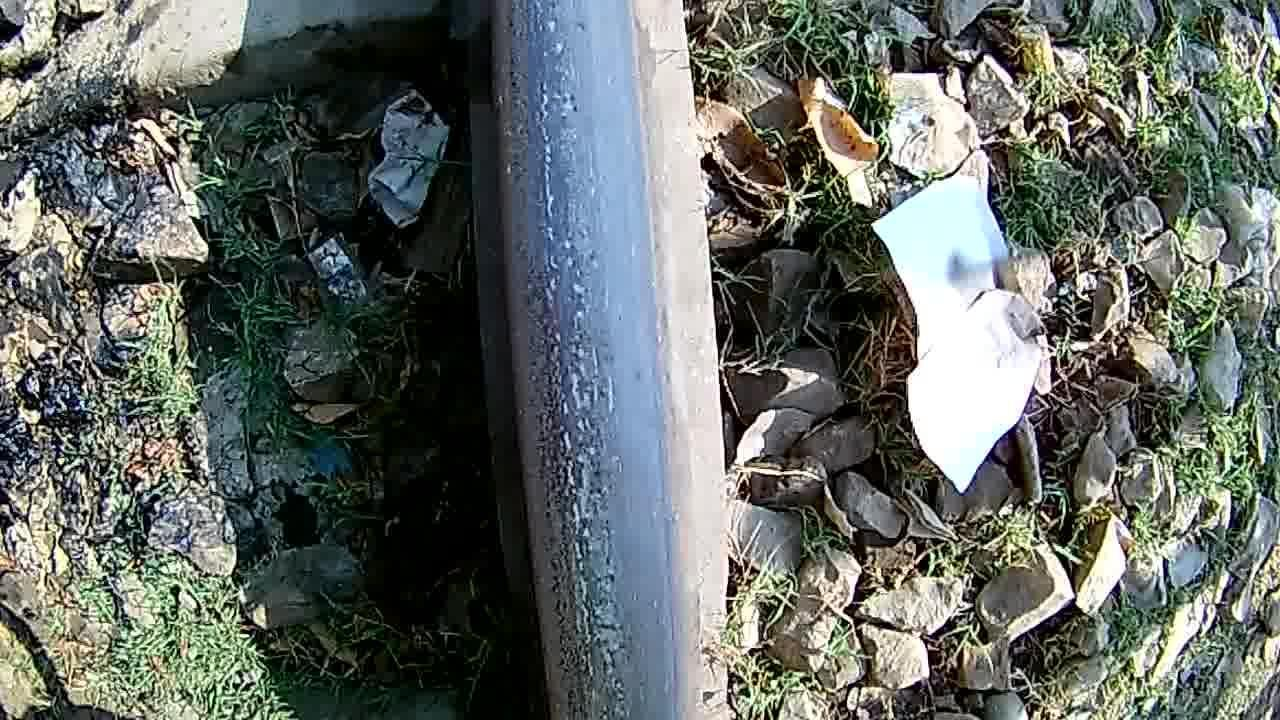crack: (515, 0, 647, 716)
